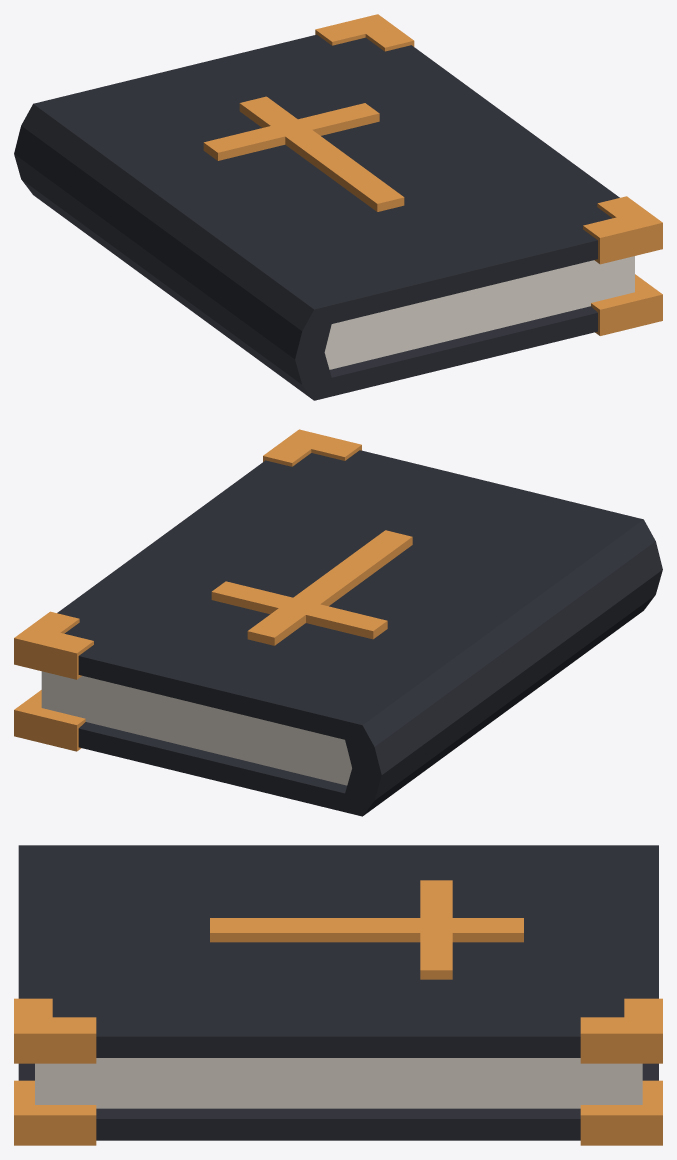
Rendered from Book_03.fbx.
3 views of the same model, one above another, from view 1: azimuth 30°, elevation 25°; view 2: azimuth 150°, elevation 25°; view 3: azimuth 270°, elevation 25° (orthographic). The views are drawn at different scales.
Parts seen in each view (by area): view 1: Book_03; view 2: Book_03; view 3: Book_03.
Boxes of the visible parts, x1,y1,x2,y2 form: Book_03: [14, 14, 662, 400]; Book_03: [14, 429, 662, 816]; Book_03: [14, 845, 662, 1145].
Bounding box in the file's own units: 31.23 × 8.37 × 42.14.
